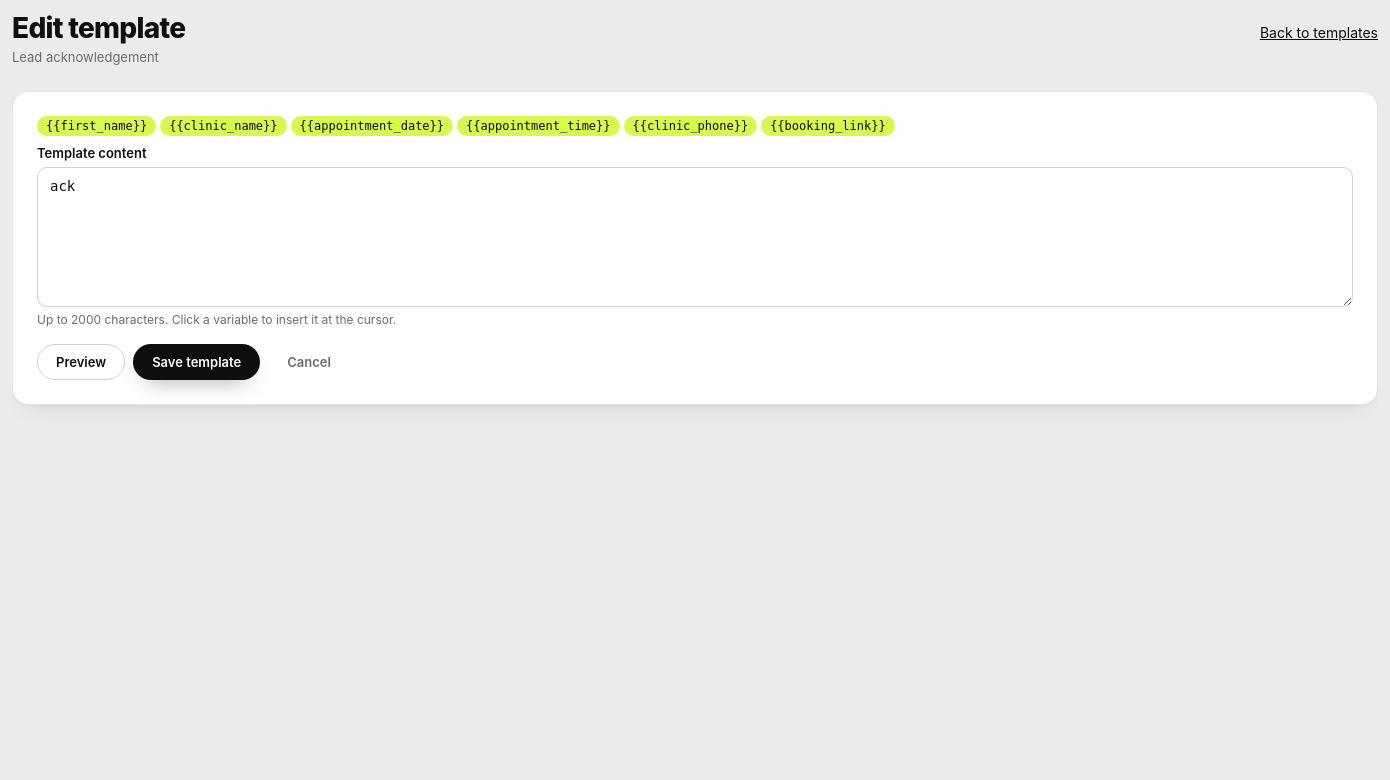
Test: TemplateEditorPage › keeps preview on the same body key
This screenshot has width=1390, height=780.
Replace the text in the text box showing "ack" with "Preview me" at point(695, 237), box [37,167,1353,307]
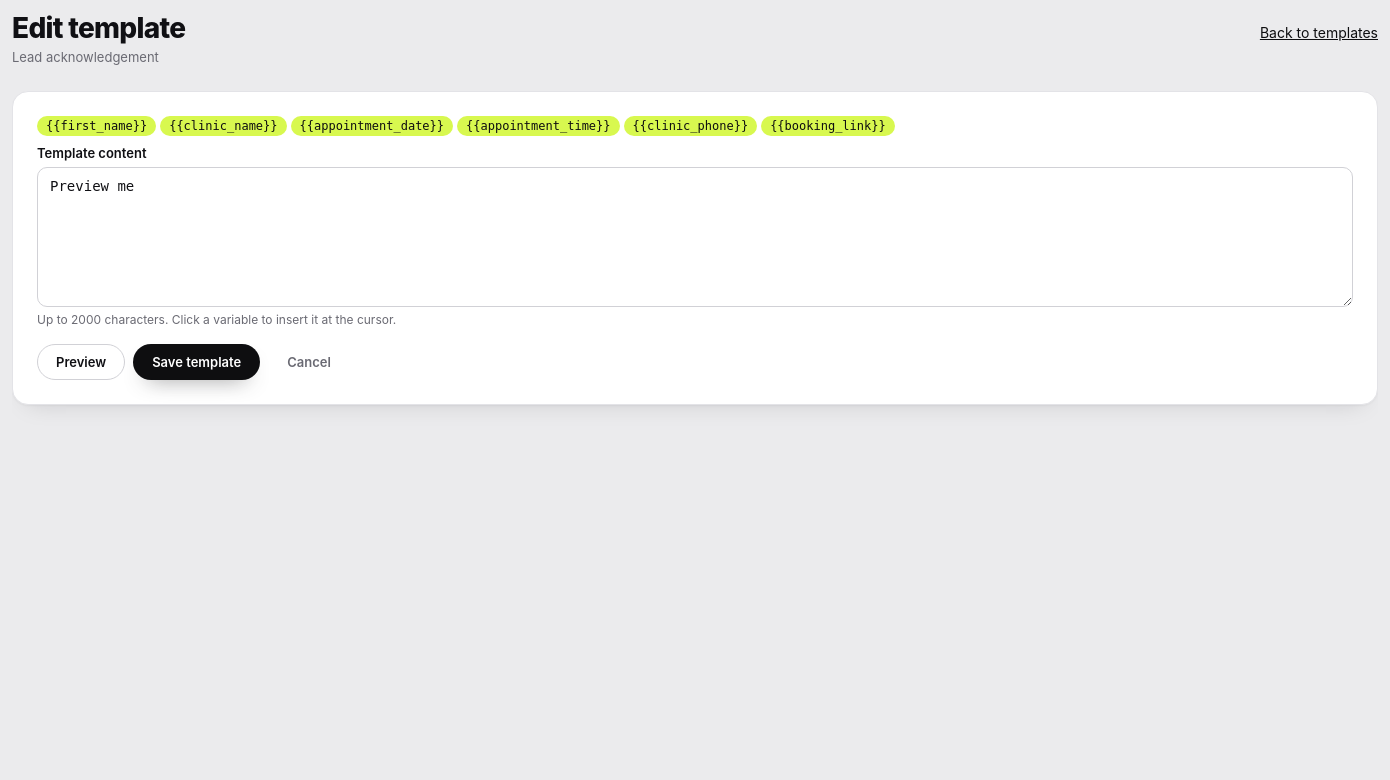
Click the button "Preview" at point(81, 362), box [37,344,125,380]
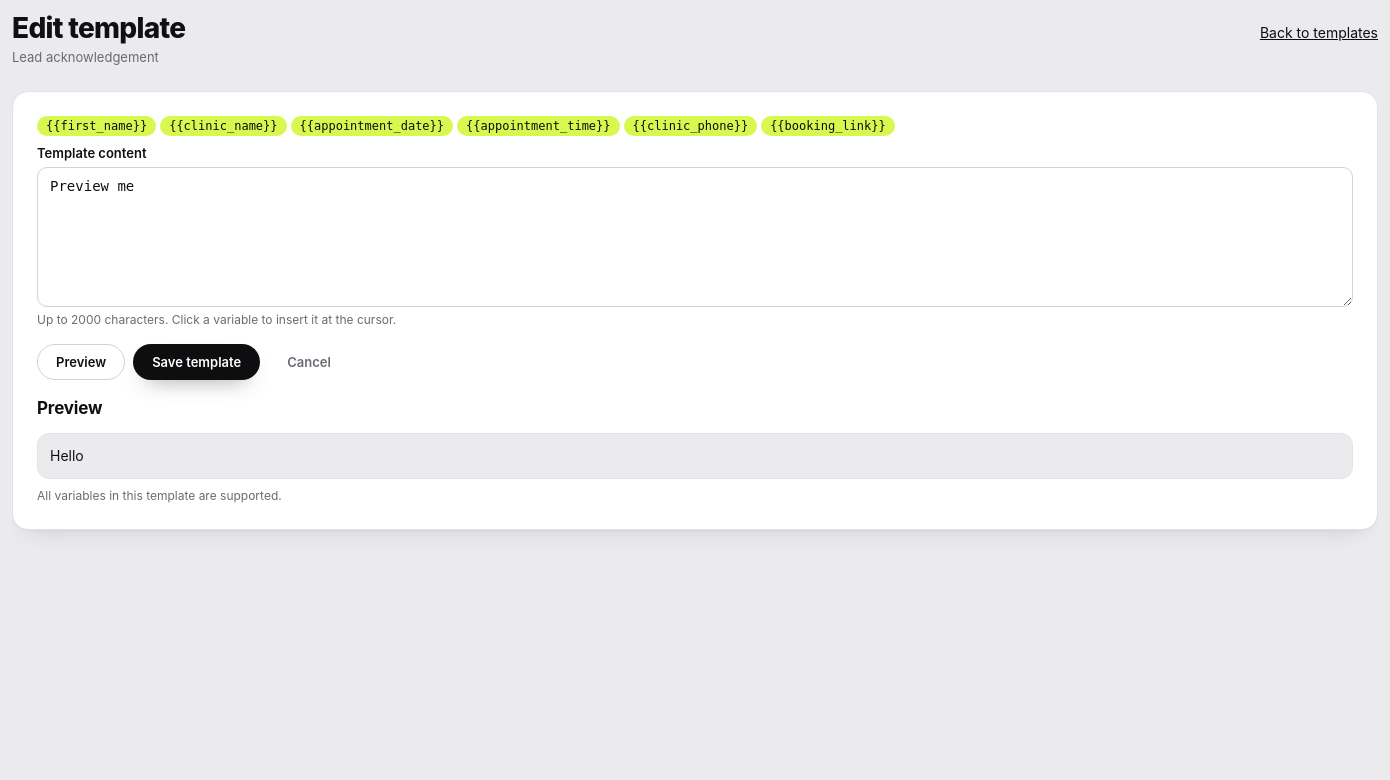
Check: the text "Hello" is shown, box [37,433,1353,479]
